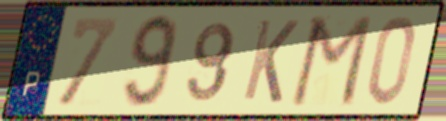0: (365, 14, 419, 108)
7: (60, 14, 121, 109)
9: (121, 11, 180, 112), (183, 19, 238, 103)
K: (239, 15, 302, 106)
M: (286, 12, 376, 109)
